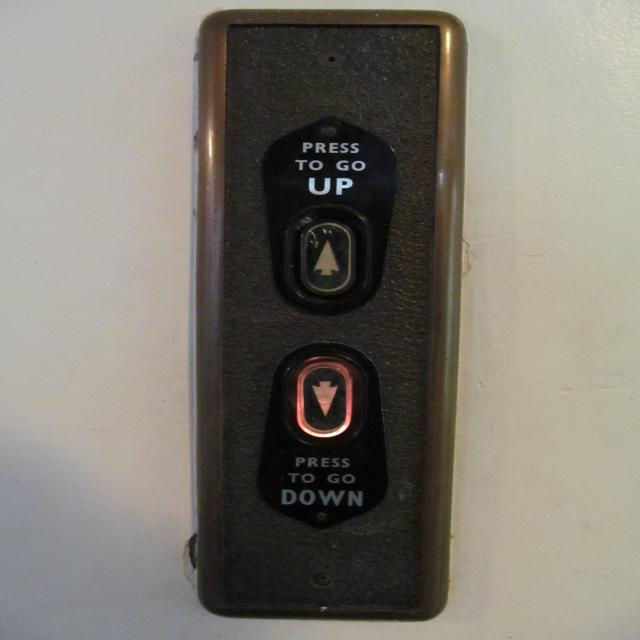down: (278, 348, 368, 451)
up: (283, 200, 374, 308)
